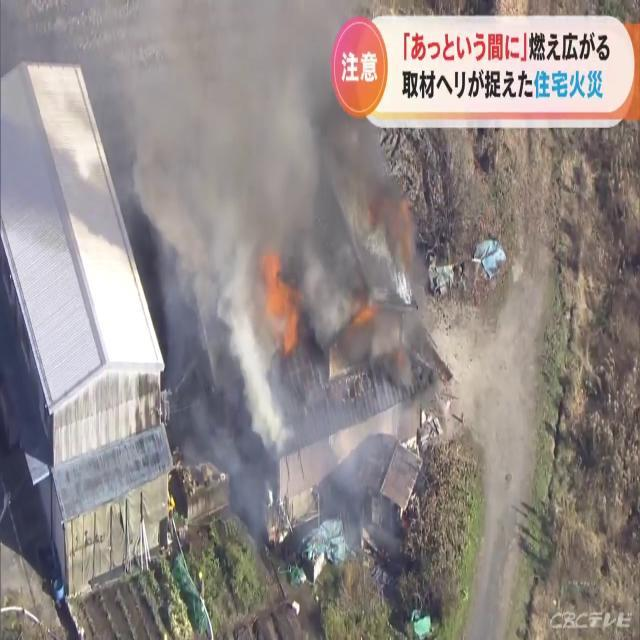Fire: (254, 241, 302, 365)
Smoke: (147, 1, 415, 353)
